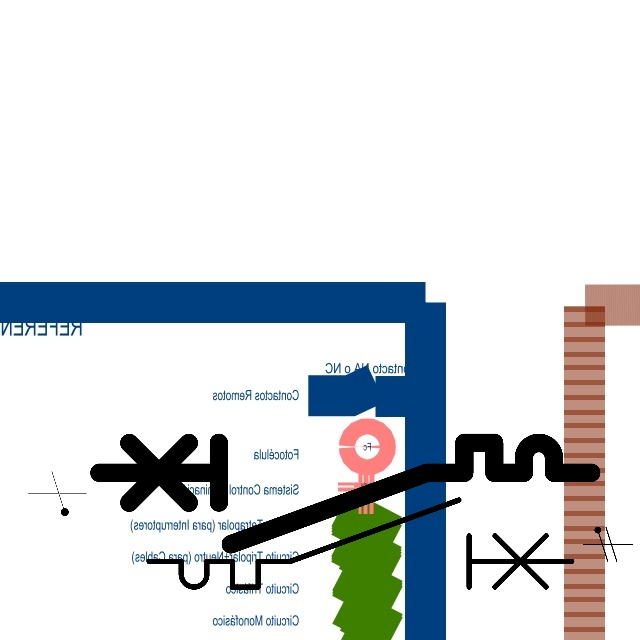interruptor_termomagnetico: (86, 430, 604, 557), (138, 489, 582, 598)
